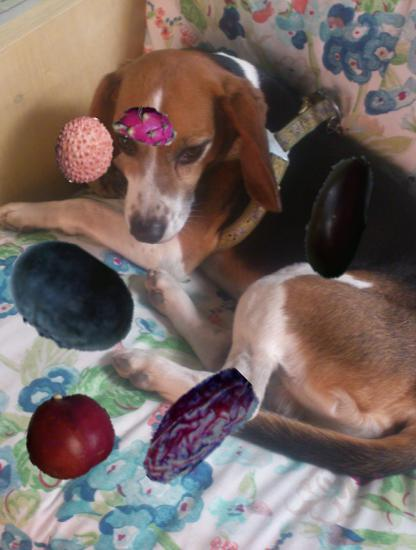Blueberry: (3, 231, 139, 367)
Dates: (127, 358, 266, 497)
Eggplant: (273, 149, 406, 282)
Lychee: (50, 116, 119, 185)
Nectarine: (23, 390, 114, 481)
Pitahaya: (113, 95, 178, 160)
